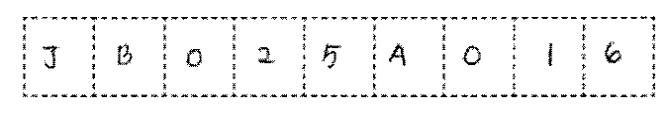0: (178, 40, 210, 74), (456, 40, 487, 70)
1: (536, 39, 566, 73)
2: (249, 42, 280, 68)
5: (314, 39, 346, 72)
6: (596, 38, 629, 71)
A: (382, 37, 411, 73)
B: (110, 38, 138, 70)
J: (36, 40, 64, 75)
